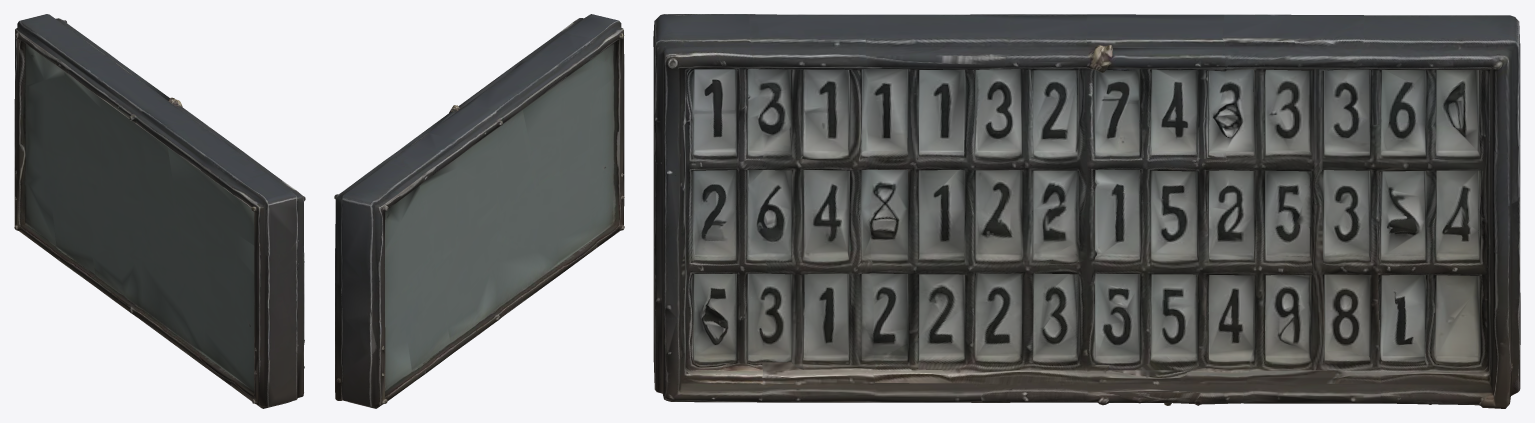
Rendered from bus-faredisplay.glb.
3 views of the same model, side by side, from view 1: azimuth 30°, elevation 25°; view 2: azimuth 150°, elevation 25°; view 3: azimuth 270°, elevation 25° (orthographic). The views are drawn at different scales.
Visible parts, largest first — view 1: tripo_node_a8134f3d-2d06-4758-bd9a-7b13b34b98d2; view 2: tripo_node_a8134f3d-2d06-4758-bd9a-7b13b34b98d2; view 3: tripo_node_a8134f3d-2d06-4758-bd9a-7b13b34b98d2.
Part boxes in pixels (bbox=[...]): tripo_node_a8134f3d-2d06-4758-bd9a-7b13b34b98d2: bbox=[14, 14, 305, 408]; tripo_node_a8134f3d-2d06-4758-bd9a-7b13b34b98d2: bbox=[334, 14, 624, 408]; tripo_node_a8134f3d-2d06-4758-bd9a-7b13b34b98d2: bbox=[653, 14, 1520, 408].
Size of the model in its own units: 0.1201 by 0.4646 by 0.9999.
1 material, 1 textured.
